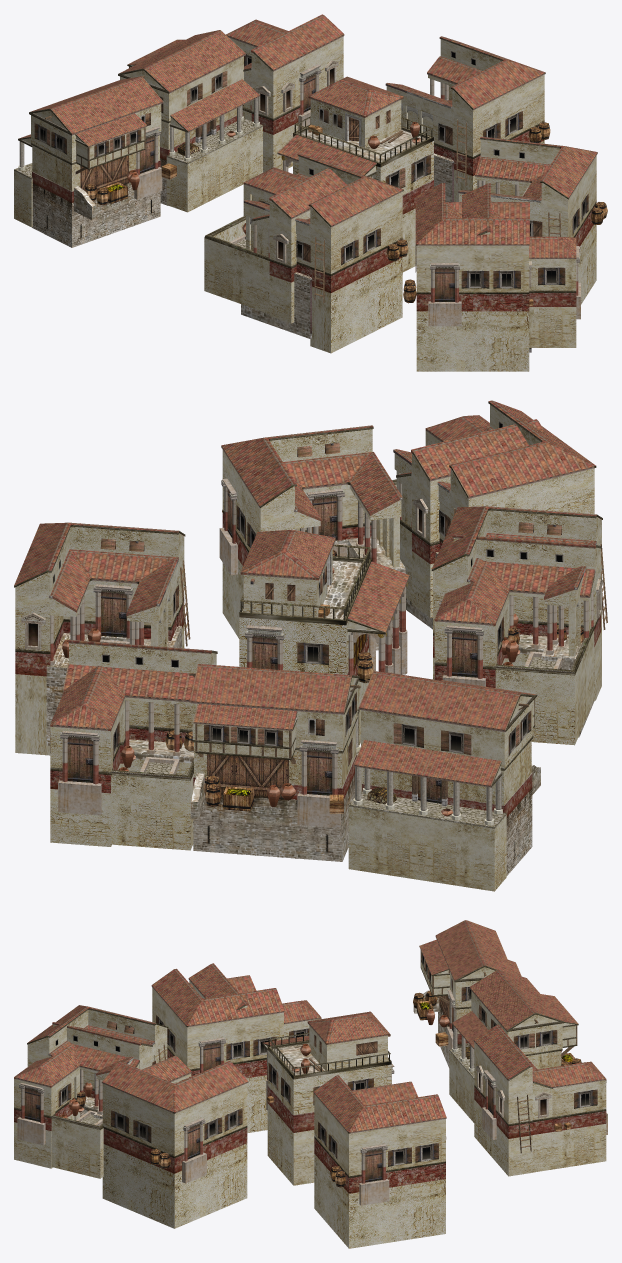
File: settlement_houses2.dae
3 views of the same model, one above another, from view 1: azimuth 30°, elevation 25°; view 2: azimuth 150°, elevation 25°; view 3: azimuth 270°, elevation 25° (orthographic). The views are drawn at different scales.
Visible parts, largest first — view 1: HouseD003; view 2: HouseD003; view 3: HouseD003.
Boxes of the visible parts, bbox=[...] form: HouseD003: bbox=[14, 14, 607, 371]; HouseD003: bbox=[14, 400, 607, 891]; HouseD003: bbox=[14, 920, 607, 1248].
Bounding box in the file's own units: 15.55 × 5.46 × 19.9.
